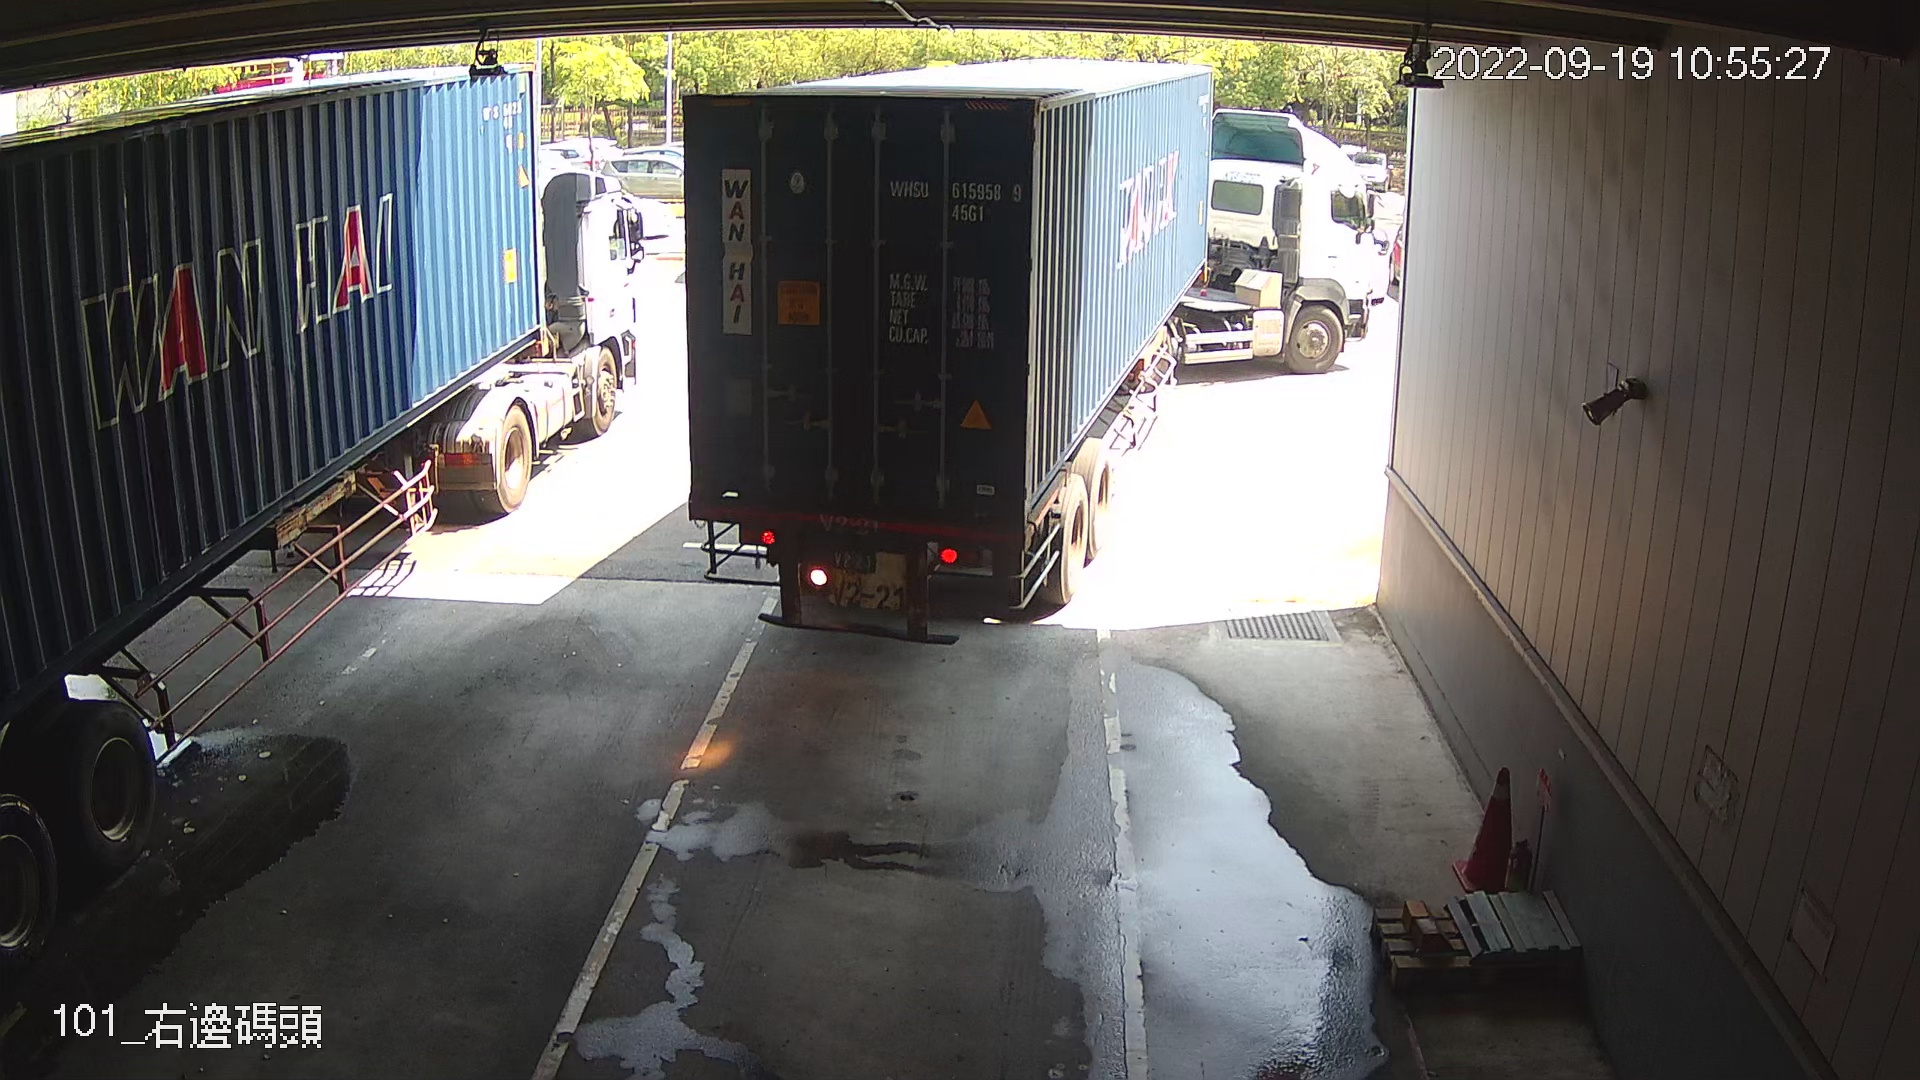container: (881, 169, 1029, 229)
